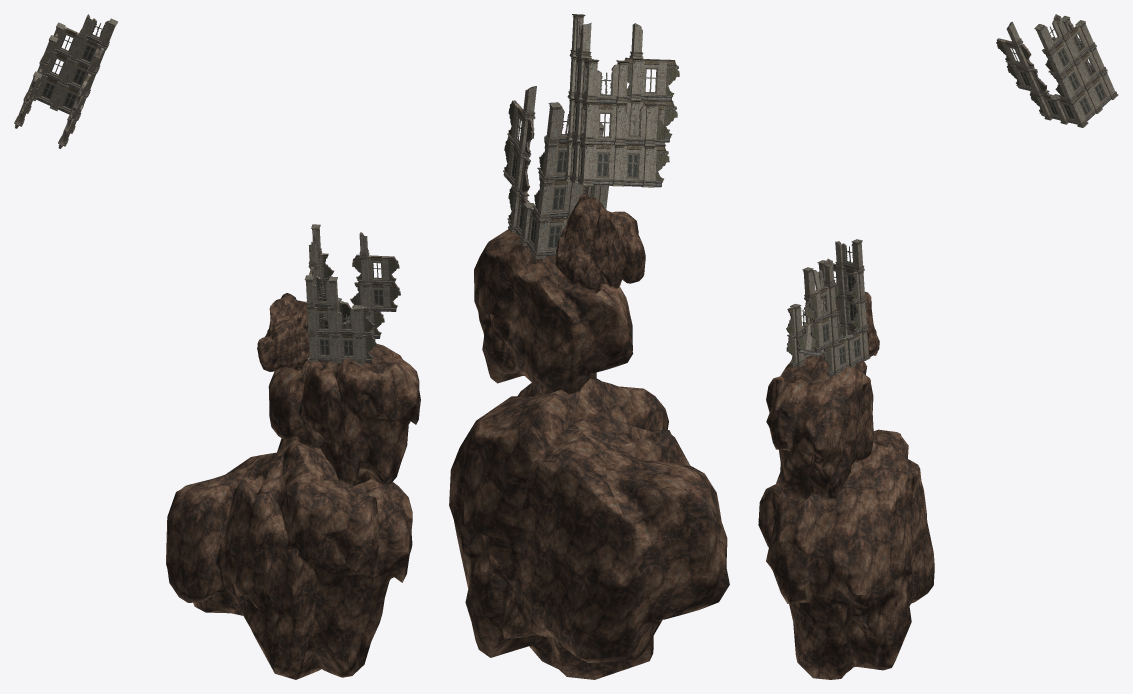
The model's file is l11_11_collapse05.meshout.fbx.
The picture shows the model from 3 angles, left to right: view 1: azimuth 30°, elevation 25°; view 2: azimuth 150°, elevation 25°; view 3: azimuth 270°, elevation 25°; orthographic projection. The views are drawn at different scales.
Visible parts, largest first — view 1: LOD_1_Group_0_Sub_1__l09_01_rock1, LOD_1_Group_0_Sub_2__sm0712_builpartsC_A_Mat, LOD_1_Group_0_Sub_3__sm0712_builpartsC_B_Mat; view 2: LOD_1_Group_0_Sub_1__l09_01_rock1, LOD_1_Group_0_Sub_2__sm0712_builpartsC_A_Mat, LOD_1_Group_0_Sub_3__sm0712_builpartsC_B_Mat; view 3: LOD_1_Group_0_Sub_1__l09_01_rock1, LOD_1_Group_0_Sub_2__sm0712_builpartsC_A_Mat, LOD_1_Group_0_Sub_3__sm0712_builpartsC_B_Mat.
Boxes of the visible parts, x1,y1,x2,y2 form: LOD_1_Group_0_Sub_1__l09_01_rock1: (166,293,420,679); LOD_1_Group_0_Sub_2__sm0712_builpartsC_A_Mat: (14,16,400,364); LOD_1_Group_0_Sub_3__sm0712_builpartsC_B_Mat: (15,14,400,362); LOD_1_Group_0_Sub_1__l09_01_rock1: (449,193,729,679); LOD_1_Group_0_Sub_2__sm0712_builpartsC_A_Mat: (504,14,679,258); LOD_1_Group_0_Sub_3__sm0712_builpartsC_B_Mat: (503,17,676,255); LOD_1_Group_0_Sub_1__l09_01_rock1: (758,291,934,679); LOD_1_Group_0_Sub_2__sm0712_builpartsC_A_Mat: (787,16,1118,375); LOD_1_Group_0_Sub_3__sm0712_builpartsC_B_Mat: (786,14,1110,376).
Size of the model in its own units: 3925 by 8365 by 4558.
